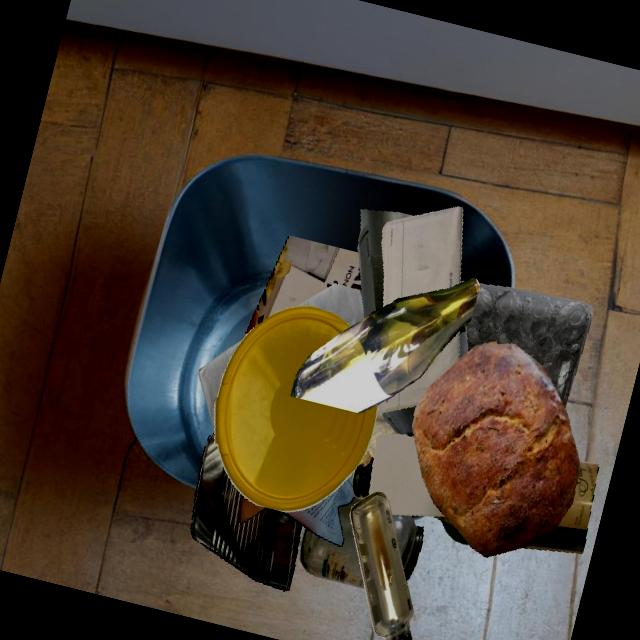biowaste: (411, 340, 580, 557)
cardboard: (244, 235, 361, 337)
glass: (291, 278, 479, 413), (368, 461, 579, 516), (349, 491, 413, 640), (401, 282, 459, 427), (521, 461, 598, 553), (357, 208, 414, 319), (299, 496, 364, 588), (378, 273, 401, 404), (391, 514, 423, 581), (351, 462, 372, 499), (432, 516, 454, 527)
metal: (190, 432, 301, 591)
paper: (381, 206, 462, 307), (281, 462, 359, 546), (378, 331, 458, 412), (368, 434, 445, 516), (198, 340, 241, 430), (296, 283, 364, 326), (367, 404, 398, 457)
plastic: (214, 305, 377, 512), (465, 283, 592, 408), (441, 520, 469, 544), (205, 443, 206, 445)
